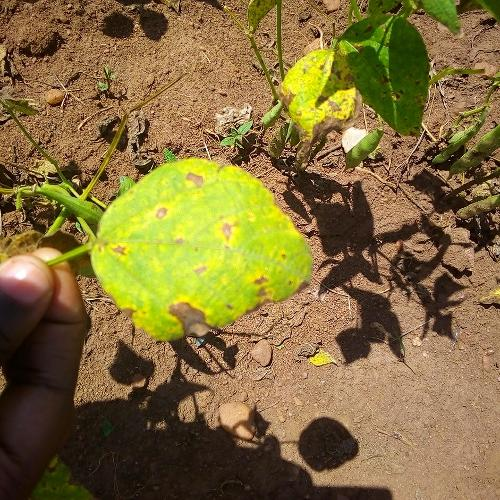hawar: (167, 209, 246, 283), (150, 284, 226, 340), (256, 243, 298, 307), (82, 227, 138, 268), (170, 160, 224, 197)
